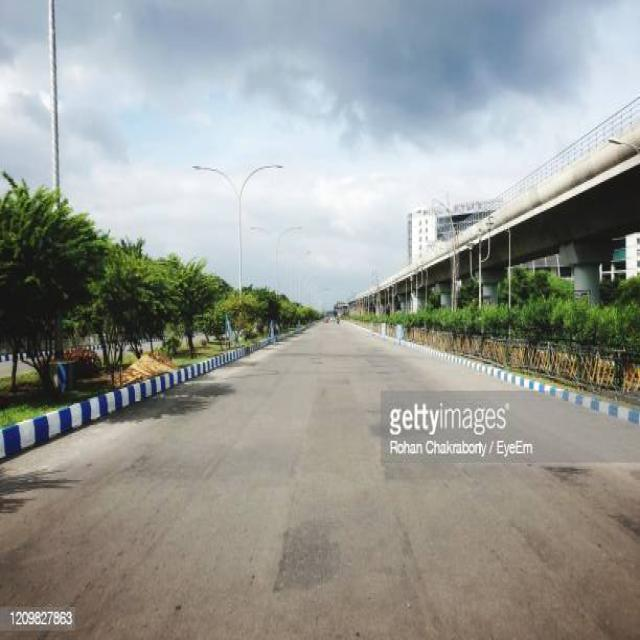Clean road: (0, 293, 640, 640)
